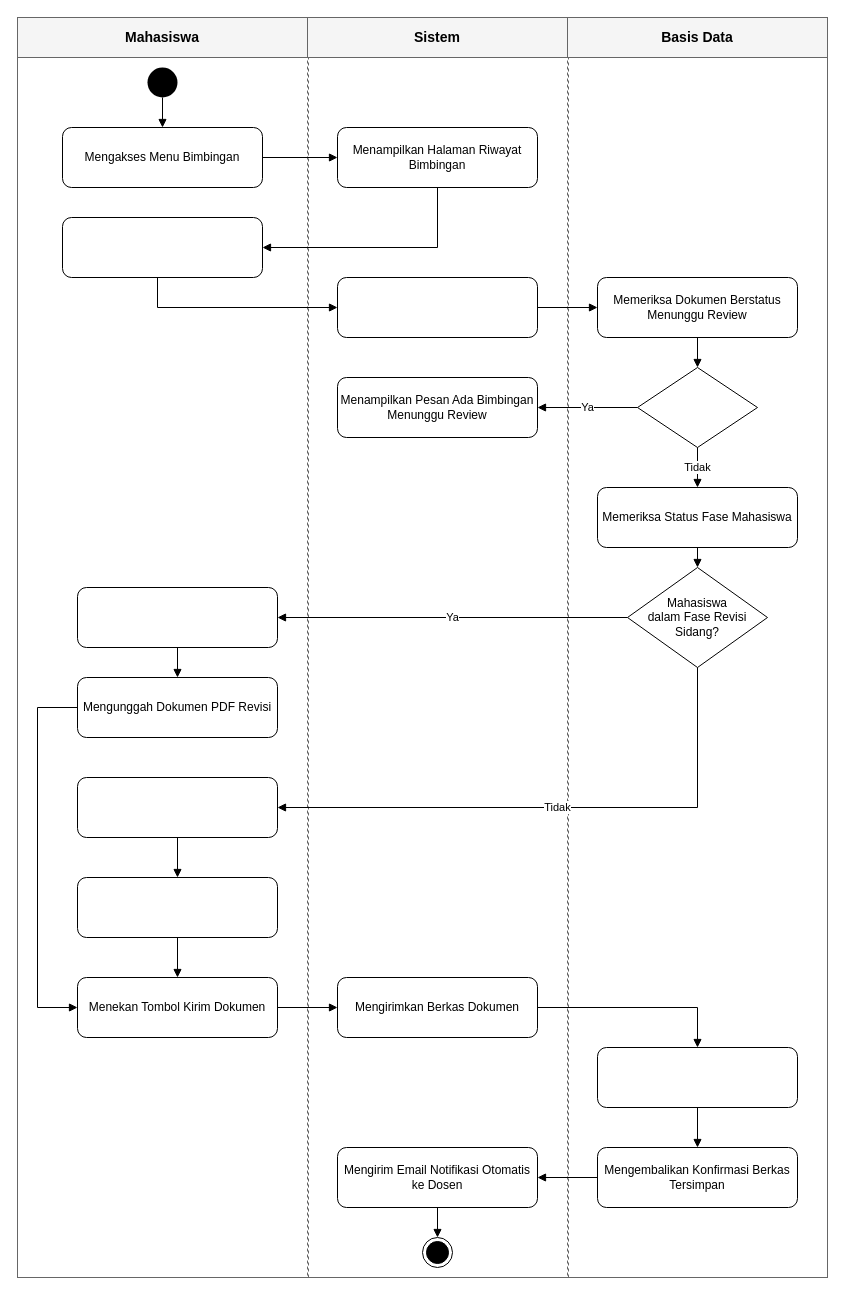
The diagram is 845 pixels wide and 1295 high, and some of its shapes have lost their labels. The centre of each missing label's shape, as x and y in pixels:
Ada Dokumen Status Menunggu?: pixel 697 407
Memilih Dosen Pembimbing & Kolom Bimbingan: pixel 177 807
Memilih Dosen Penguji & Kolom Revisi: pixel 177 617
Menekan Tombol "Pengajuan Baru": pixel 162 247
Mengirimkan Permintaan Pengecekan Antrean: pixel 437 307
Mengunggah Dokumen PDF Bimbingan: pixel 177 907
Menyimpan Berkas & Generate Versi Otomatis: pixel 697 1077
